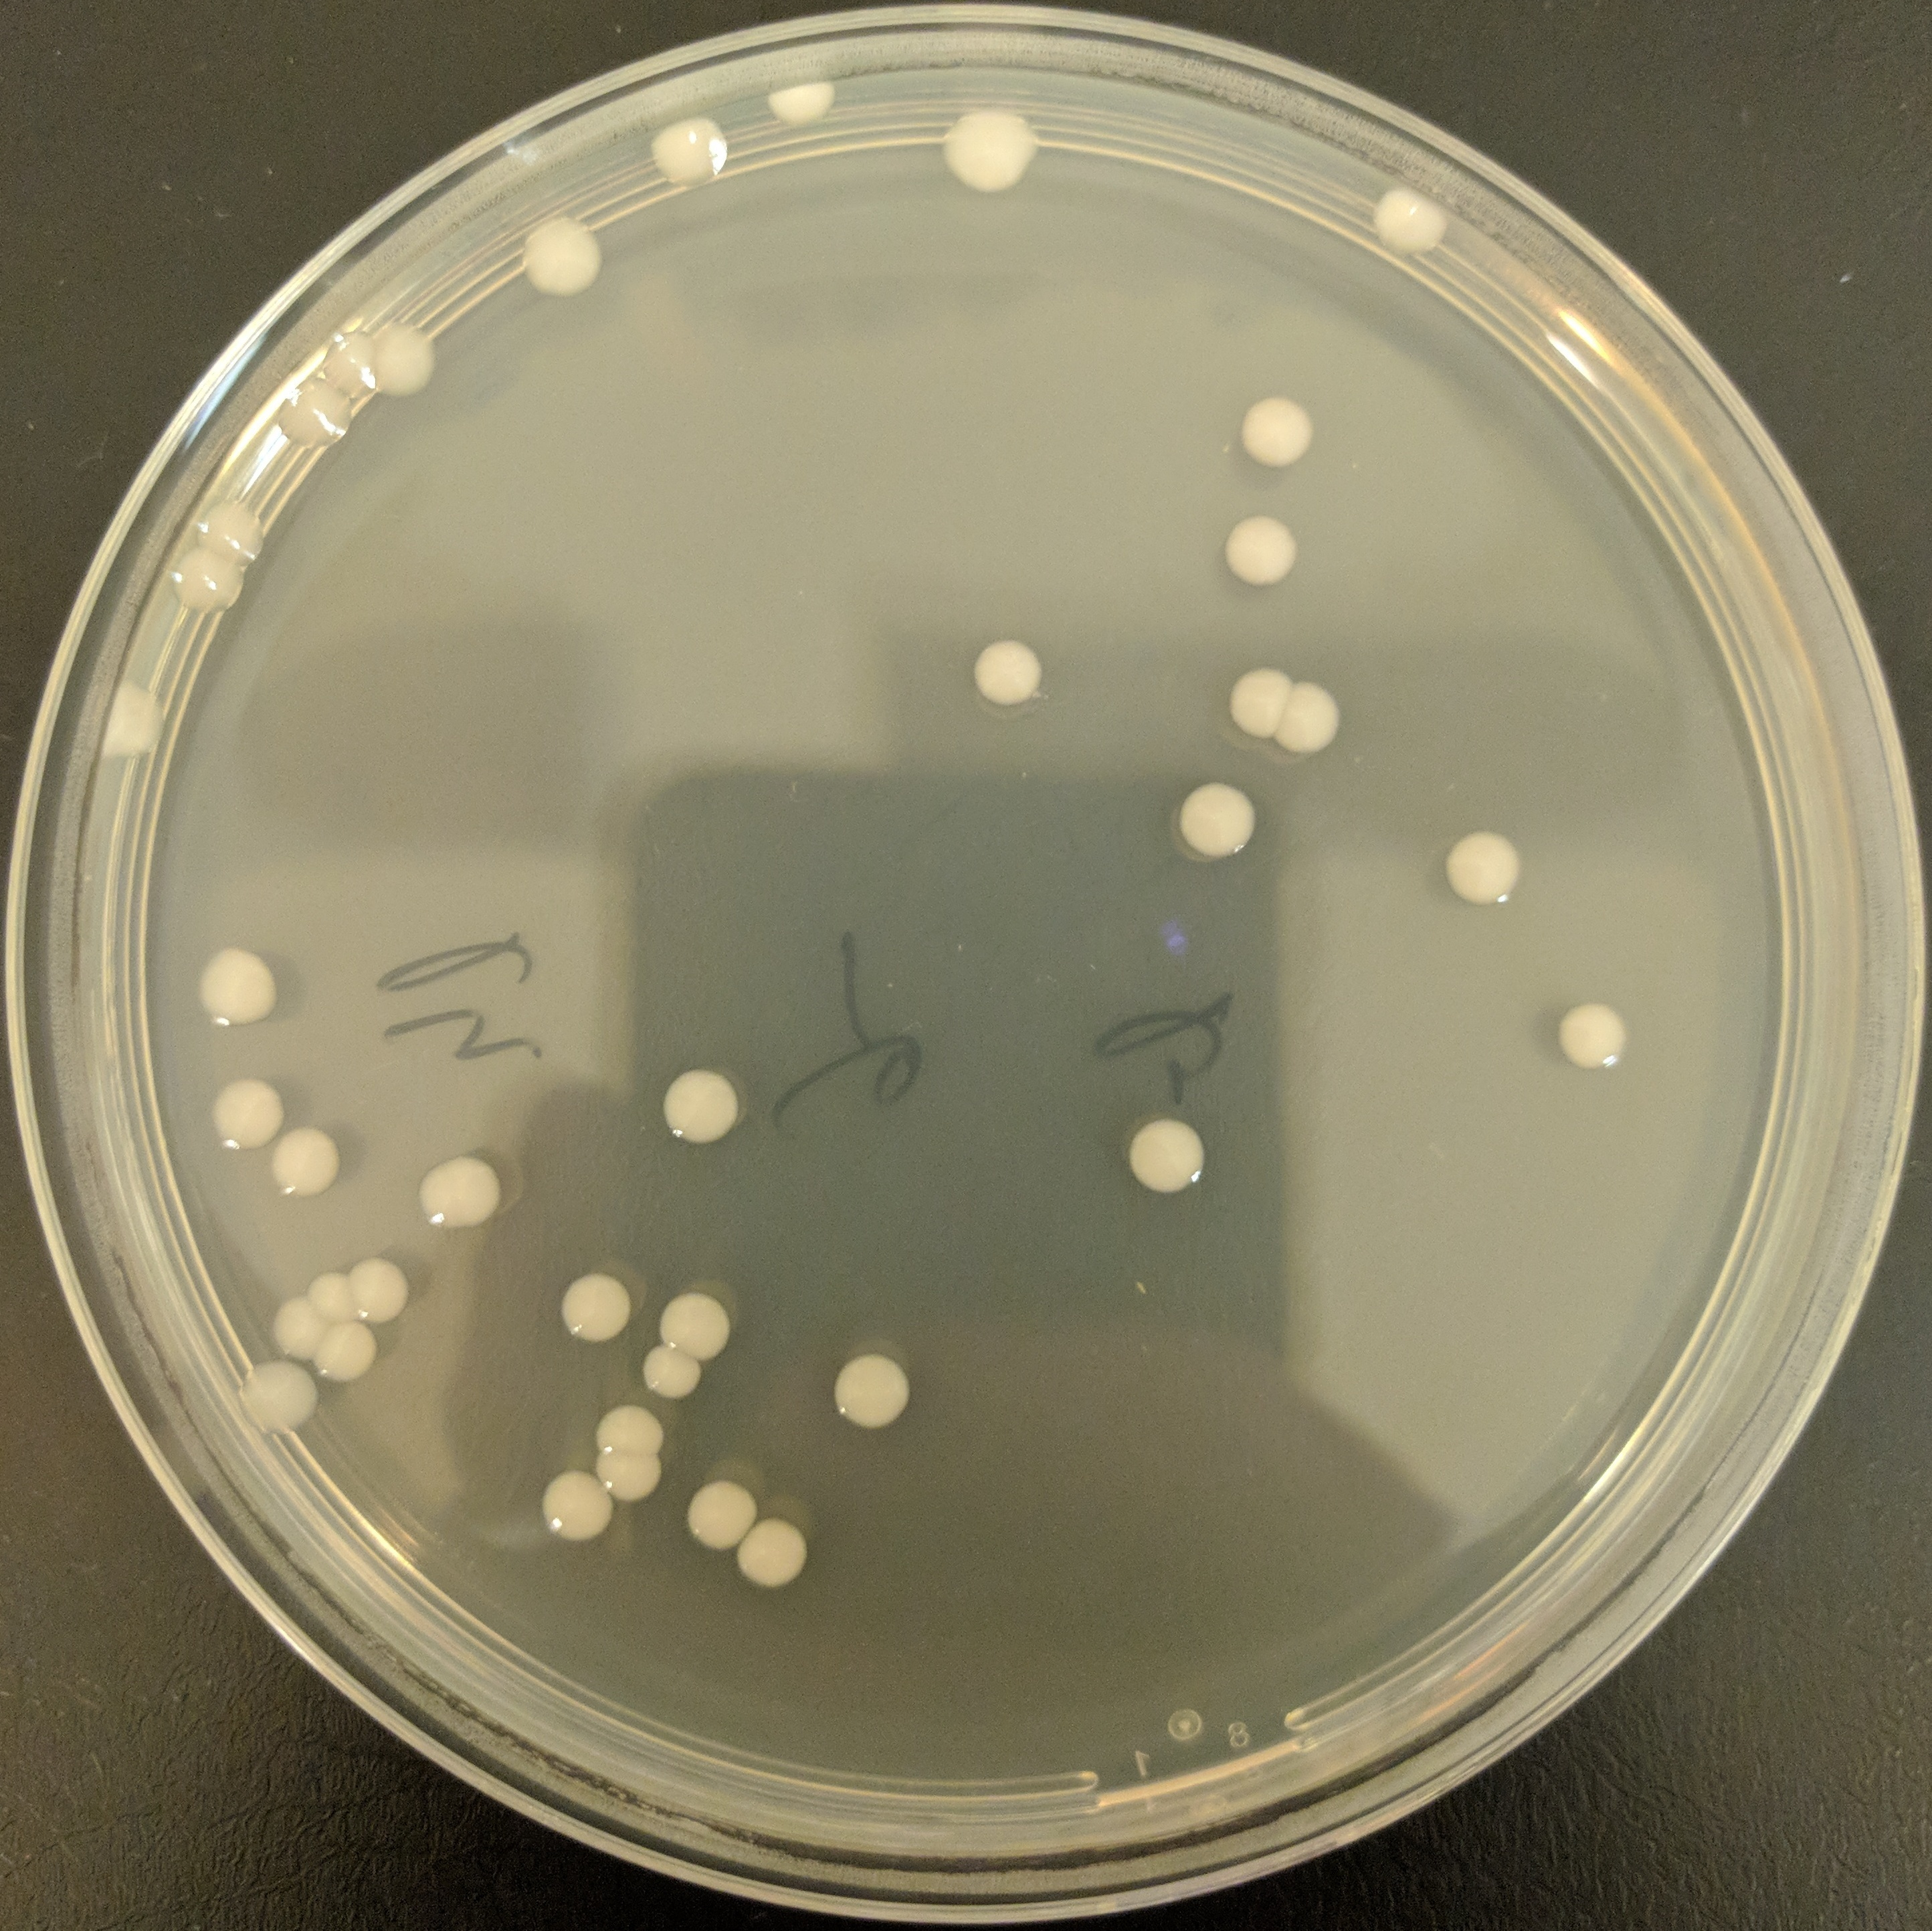sp20: (916, 97, 1062, 187), (187, 921, 290, 1042), (1108, 1116, 1221, 1213), (184, 1072, 295, 1165), (1220, 649, 1313, 760), (361, 304, 449, 421), (509, 198, 617, 292), (214, 1346, 308, 1452), (87, 653, 168, 773), (263, 1111, 361, 1210), (1435, 815, 1533, 914), (831, 1340, 924, 1443), (1545, 992, 1644, 1086), (1211, 504, 1308, 598), (642, 103, 744, 191), (405, 1142, 511, 1227), (1276, 665, 1370, 760), (1175, 776, 1274, 866), (1228, 384, 1322, 477), (1365, 182, 1467, 267), (751, 50, 859, 129), (523, 1459, 617, 1549), (299, 1309, 392, 1395), (656, 1059, 749, 1144), (285, 1257, 387, 1333), (258, 363, 343, 447), (346, 1240, 428, 1328), (187, 472, 281, 548), (157, 543, 256, 614), (553, 1257, 635, 1342), (732, 1514, 811, 1591), (594, 1397, 679, 1469), (972, 635, 1045, 720), (249, 1301, 343, 1363), (658, 1289, 746, 1353), (688, 1480, 758, 1551), (590, 1446, 673, 1505), (638, 1340, 704, 1399)
